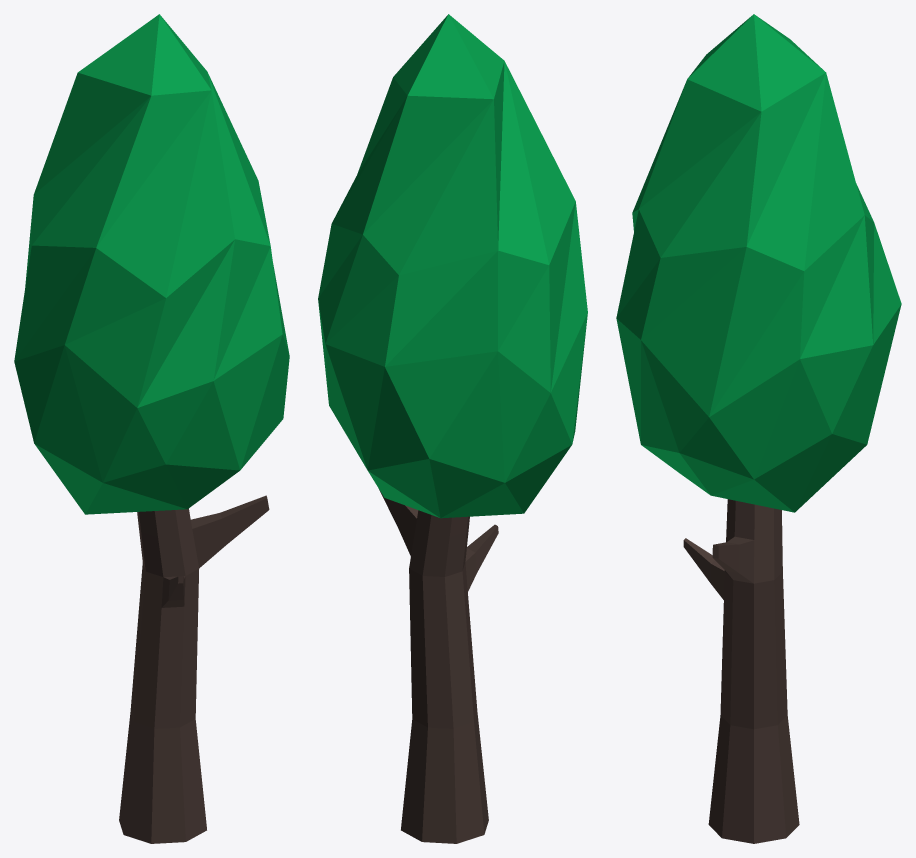
Rendered from tree2.fbx.
3 renders of one model, left to right at view 1: azimuth 30°, elevation 25°; view 2: azimuth 150°, elevation 25°; view 3: azimuth 270°, elevation 25°, orthographic.
Visible parts, largest first — view 1: tree2; view 2: tree2; view 3: tree2.
Boxes of the visible parts, x1,y1,x2,y2 form: tree2: [14, 14, 289, 843]; tree2: [318, 14, 587, 843]; tree2: [616, 14, 901, 843].
Size of the model in its own units: 3.05 by 10.21 by 3.26.
